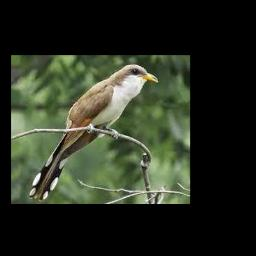Cuckoo: (29, 65, 157, 201)
